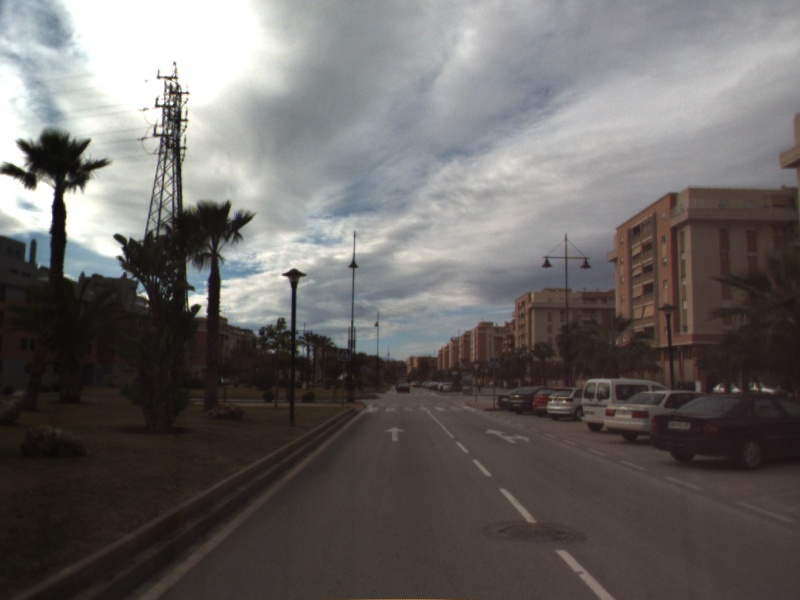STRAIGHT: (383, 424, 408, 443)
STRAIGHT_RIGHT: (483, 427, 531, 445)
